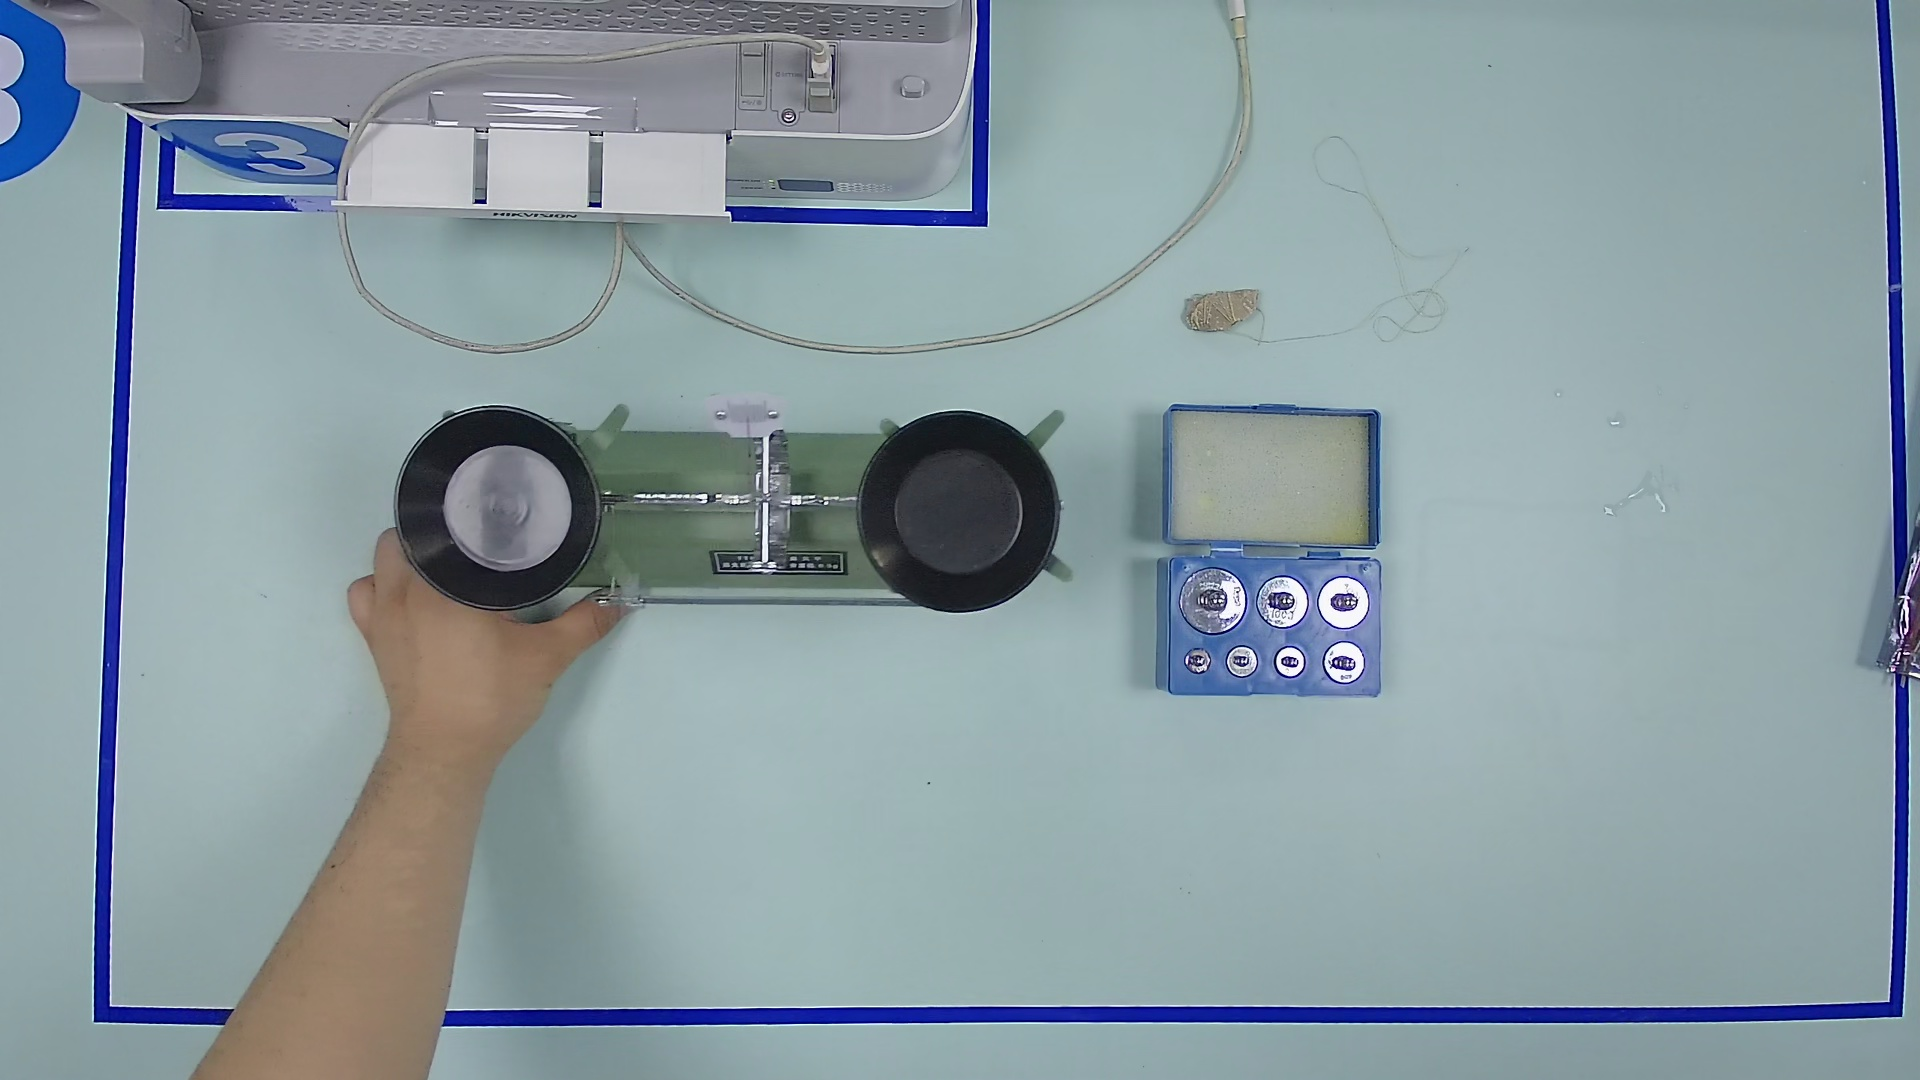fama: (1174, 563, 1247, 637), (1313, 570, 1375, 636), (1253, 571, 1313, 633), (1317, 637, 1371, 691), (1222, 644, 1262, 683), (1273, 644, 1311, 683), (1182, 644, 1215, 676)
gan: (593, 564, 916, 636)
hand: (345, 524, 617, 760)
he: (1110, 520, 1425, 742)
pointer: (709, 394, 785, 436)
shi: (1180, 273, 1269, 342)
tuo: (836, 382, 1087, 641), (382, 402, 616, 616)
you: (617, 572, 650, 617)
